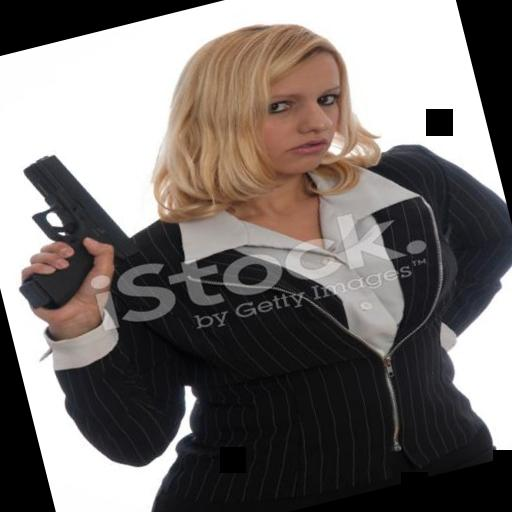Handgun: (0, 141, 148, 318)
